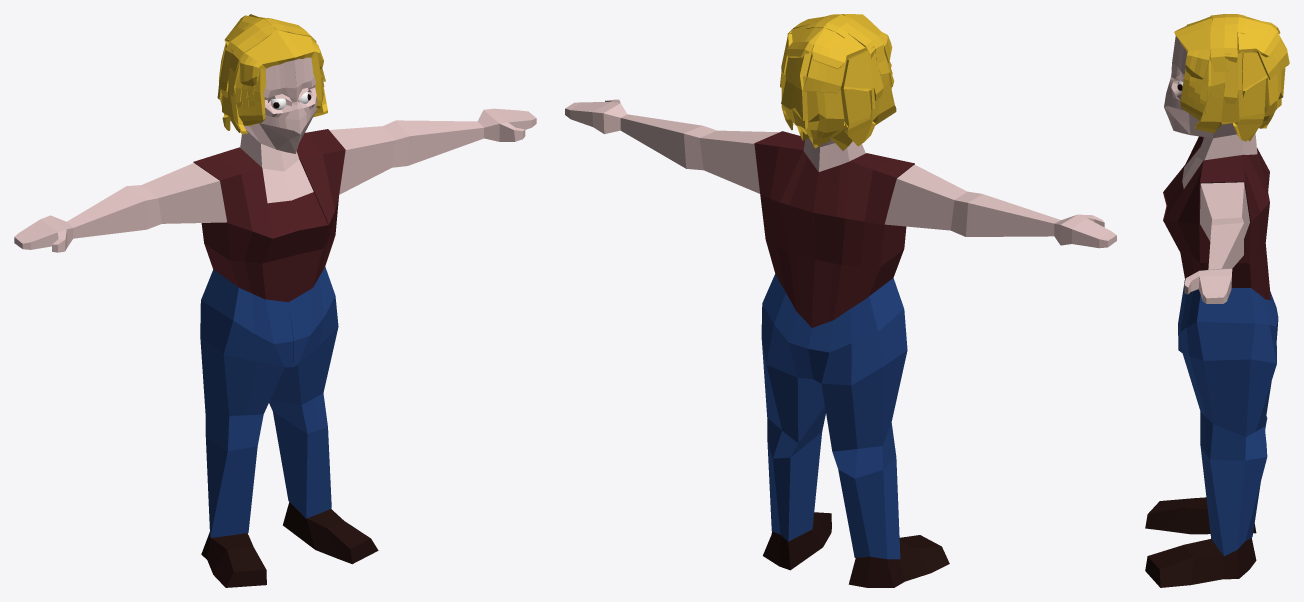
Rendered from karenModelTest.fbx.
The picture shows the model from 3 angles, left to right: view 1: azimuth 30°, elevation 25°; view 2: azimuth 150°, elevation 25°; view 3: azimuth 270°, elevation 25°; orthographic projection. The views are drawn at different scales.
Parts seen in each view (by area): view 1: Pants, Skin, Cube.001, Shoes, Cube.002, Cube.003; view 2: Pants, Cube.001, Skin, Cube.002, Shoes, Cube.003; view 3: Pants, Cube.003, Skin, Cube.001, Shoes, Cube.002.
Part boxes in pixels (x1,y1,x2,y2): Pants: [200, 267, 338, 537]; Skin: [14, 57, 536, 252]; Cube.001: [193, 129, 345, 302]; Shoes: [201, 502, 378, 587]; Cube.002: [217, 15, 294, 134]; Cube.003: [249, 14, 327, 117]; Pants: [761, 274, 907, 559]; Cube.001: [754, 131, 914, 327]; Skin: [565, 96, 1116, 248]; Cube.002: [802, 14, 896, 150]; Shoes: [763, 512, 949, 587]; Cube.003: [780, 14, 842, 148]; Pants: [1178, 280, 1278, 556]; Cube.003: [1174, 17, 1289, 141]; Skin: [1164, 36, 1257, 303]; Cube.001: [1163, 136, 1270, 300]; Shoes: [1145, 497, 1256, 587]; Cube.002: [1174, 14, 1289, 128].
Bounding box in the file's own units: 1510 × 1465 × 360.
